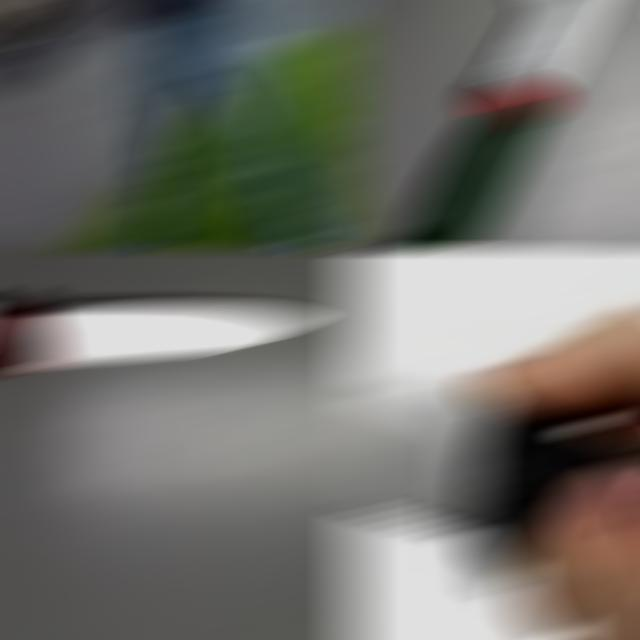Knife: (391, 2, 611, 246), (0, 302, 313, 370)
Knife_Handle: (340, 362, 640, 638)
